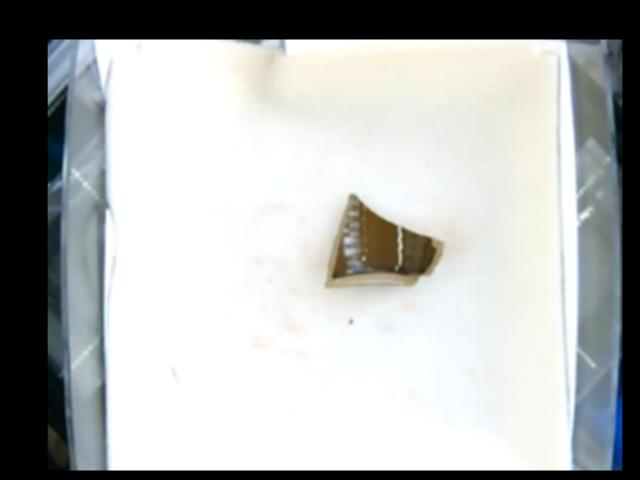China: (325, 193, 445, 292)
